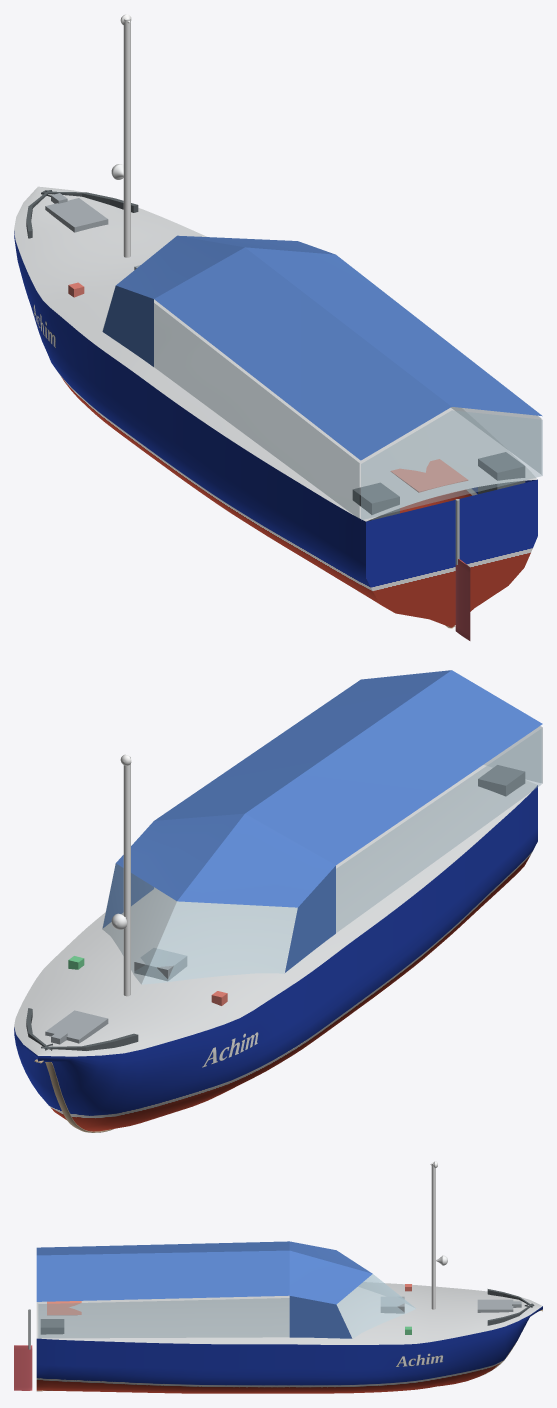
Rendered from achim.glb.
The picture shows the model from 3 angles, top to bottom: view 1: azimuth 30°, elevation 25°; view 2: azimuth 150°, elevation 25°; view 3: azimuth 270°, elevation 25°; orthographic projection. The views are drawn at different scales.
Parts seen in each view (by area): view 1: Rumpf, Verdeck (blaue Plane), Mast (weiß), Rettungsring, Anker 15 kg, Heckfender Stb., Plattenruder, Heckfender Bb., Bugfender; view 2: Verdeck (blaue Plane), Rumpf, Mast (weiß), Steuerstand mit Steuerrad, Anker 15 kg, Heckfender Bb., Bugfender, Kiel und Vorsteven (Flachstahl 60x8); view 3: Rumpf, Verdeck (blaue Plane), Plattenruder, Mast (weiß), Anker 15 kg, Rettungsring, Bugfender, Steuerstand mit Steuerrad, Heckfender Stb., Schriftzug „Achim“ (beide Seiten).
Part boxes in pixels (x1,y1,x2,y2): Rumpf: (14,186,537,627); Verdeck (blaue Plane): (102,235,542,520); Mast (weiß): (123,18,130,257); Rettungsring: (390,459,468,496); Anker 15 kg: (45,198,108,232); Heckfender Stb.: (478,452,525,494); Plattenruder: (455,559,470,640); Heckfender Bb.: (352,482,399,521); Bugfender: (26,190,138,238); Verdeck (blaue Plane): (102,670,542,984); Rumpf: (14,765,537,1131); Mast (weiß): (123,755,130,996); Steuerstand mit Steuerrad: (134,948,187,981); Anker 15 kg: (45,1010,108,1043); Heckfender Bb.: (478,765,525,796); Bugfender: (26,1008,138,1050); Kiel und Vorsteven (Flachstahl 60x8): (34,1059,113,1132); Rumpf: (36,1282,542,1393); Verdeck (blaue Plane): (36,1241,415,1338); Plattenruder: (14,1345,32,1390); Mast (weiß): (431,1162,435,1309); Anker 15 kg: (477,1299,513,1312); Rettungsring: (47,1301,81,1315); Bugfender: (487,1289,534,1325); Steuerstand mit Steuerrad: (380,1296,404,1313); Heckfender Stb.: (40,1319,64,1334); Schriftzug „Achim“ (beide Seiten): (395,1353,443,1366).
Bounding box in the file's own units: 1.93 × 3.2 × 6.69.
Materials: 23 (3 with a texture image).
